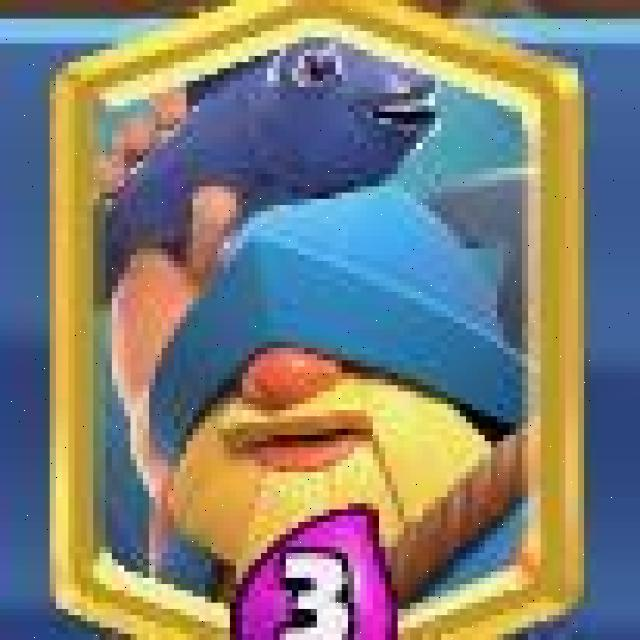Fisherman: (52, 6, 590, 640)
